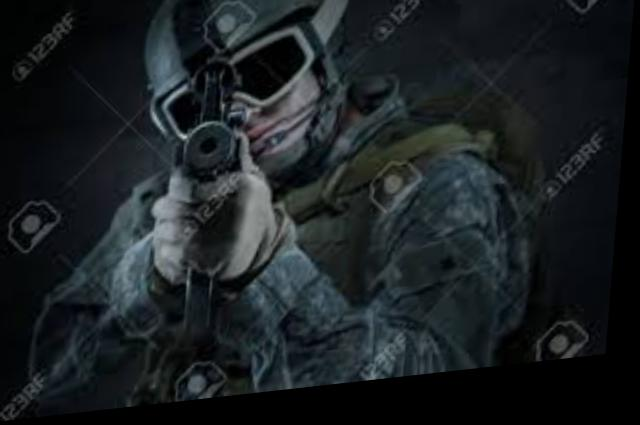other: (86, 0, 499, 383)
